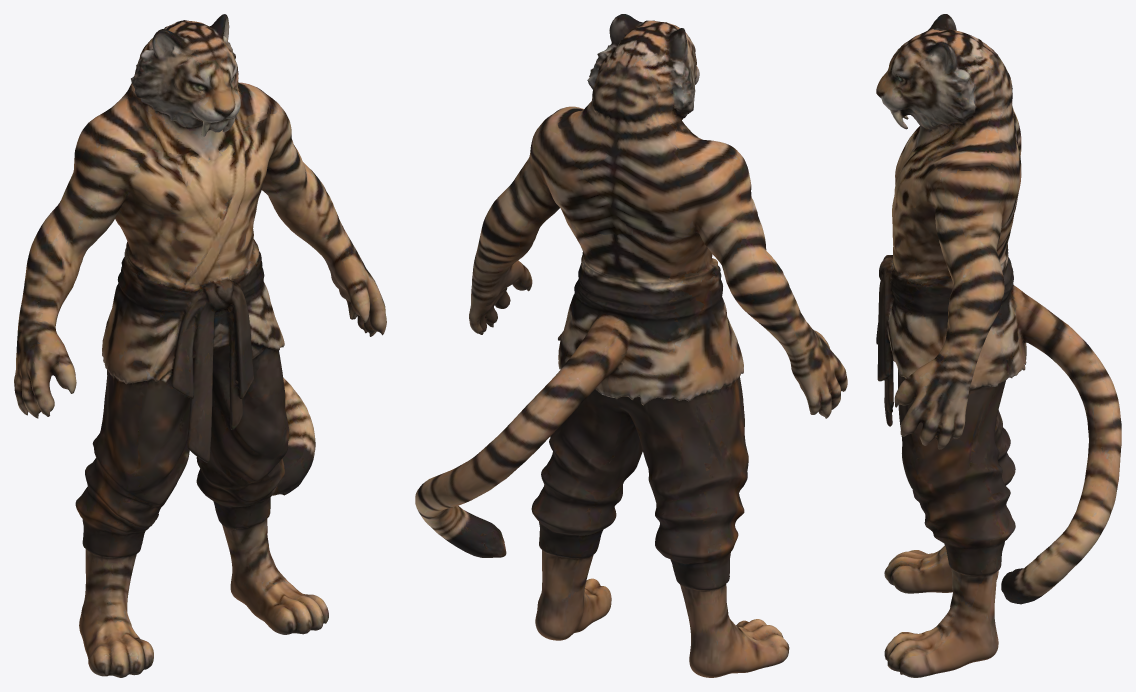
Rendered from BORYN.glb.
3 renders of one model, left to right at view 1: azimuth 30°, elevation 25°; view 2: azimuth 150°, elevation 25°; view 3: azimuth 270°, elevation 25°, orthographic. The views are drawn at different scales.
Bounding box in the file's own units: 1.21 × 2 × 0.744.
1 material, 1 textured.
